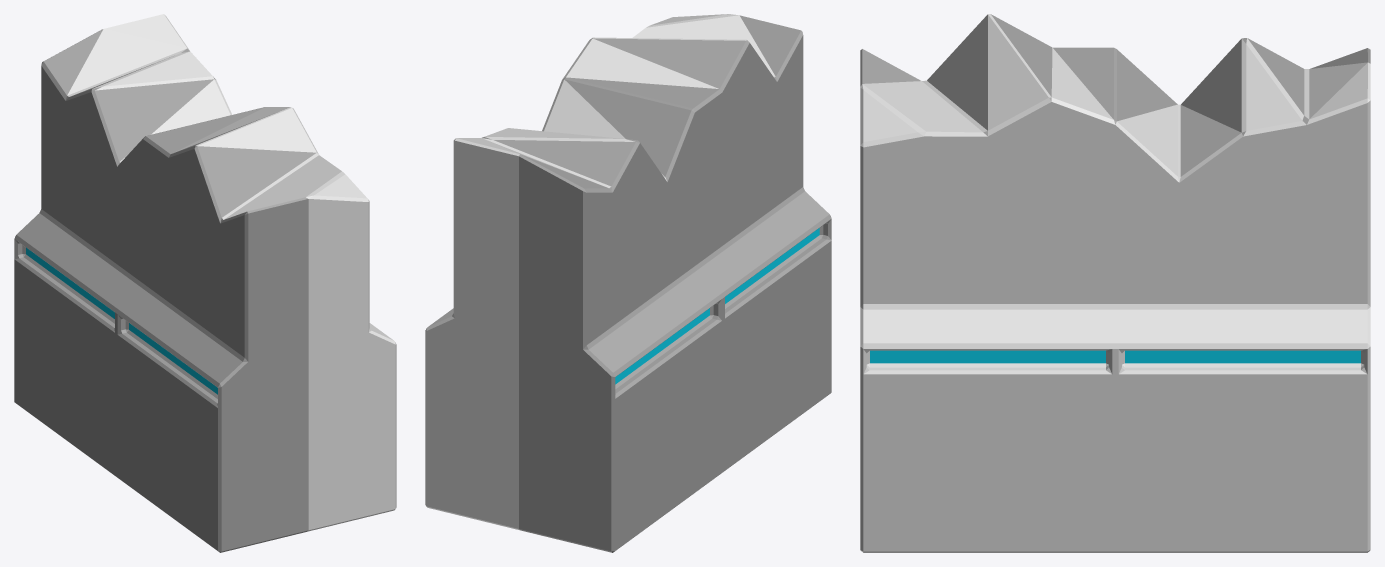
Rendered from WallsBrokeTestUVfbx.fbx.
3 views of the same model, side by side, from view 1: azimuth 30°, elevation 25°; view 2: azimuth 150°, elevation 25°; view 3: azimuth 270°, elevation 25° (orthographic). The views are drawn at different scales.
Visible parts, largest first — view 1: WallBrokenTop; view 2: WallBrokenTop; view 3: WallBrokenTop.
Part boxes in pixels (x1=…): WallBrokenTop: x1=14, y1=14, x2=396, y2=552; WallBrokenTop: x1=425, y1=14, x2=831, y2=552; WallBrokenTop: x1=860, y1=14, x2=1370, y2=552.
Bounding box in the file's own units: 200 × 389 × 400.
